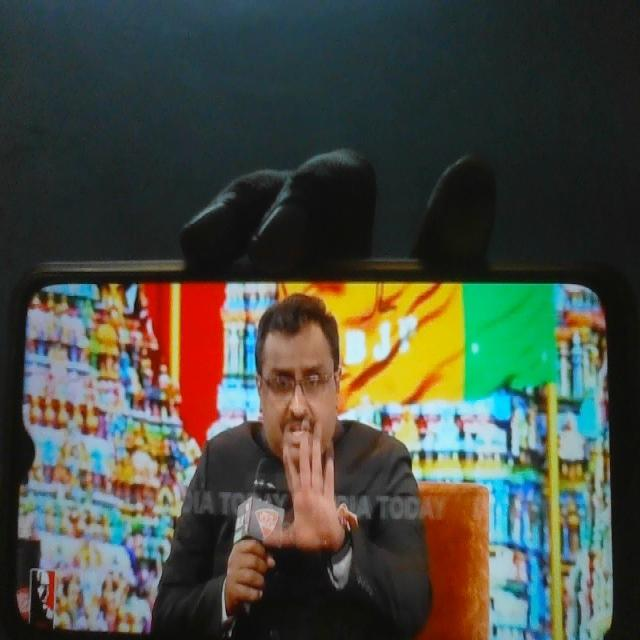fake: (248, 283, 357, 488)
